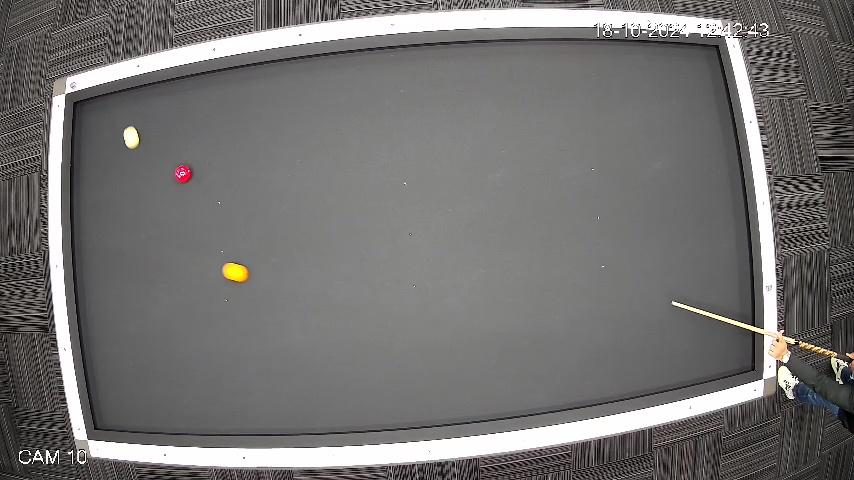Red: (173, 164, 193, 185)
White: (121, 124, 142, 150)
Yellow: (220, 261, 251, 284)
